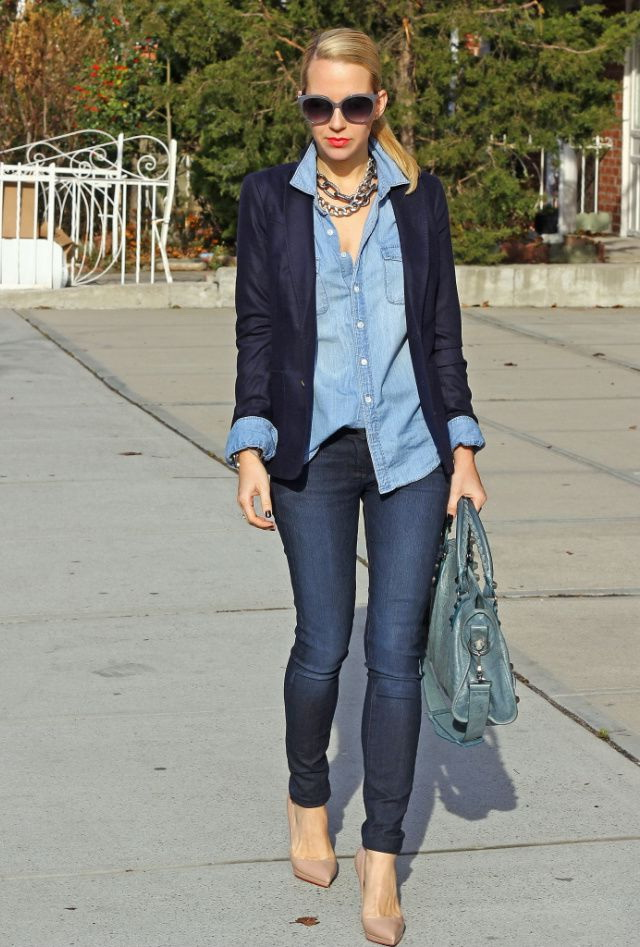F_W_suit jacket: (207, 136, 510, 478)
